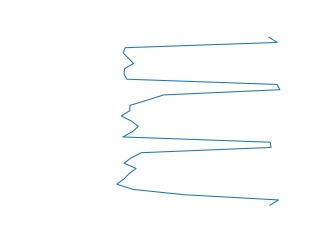majorRiverChannelBar: (114, 36, 286, 208)
